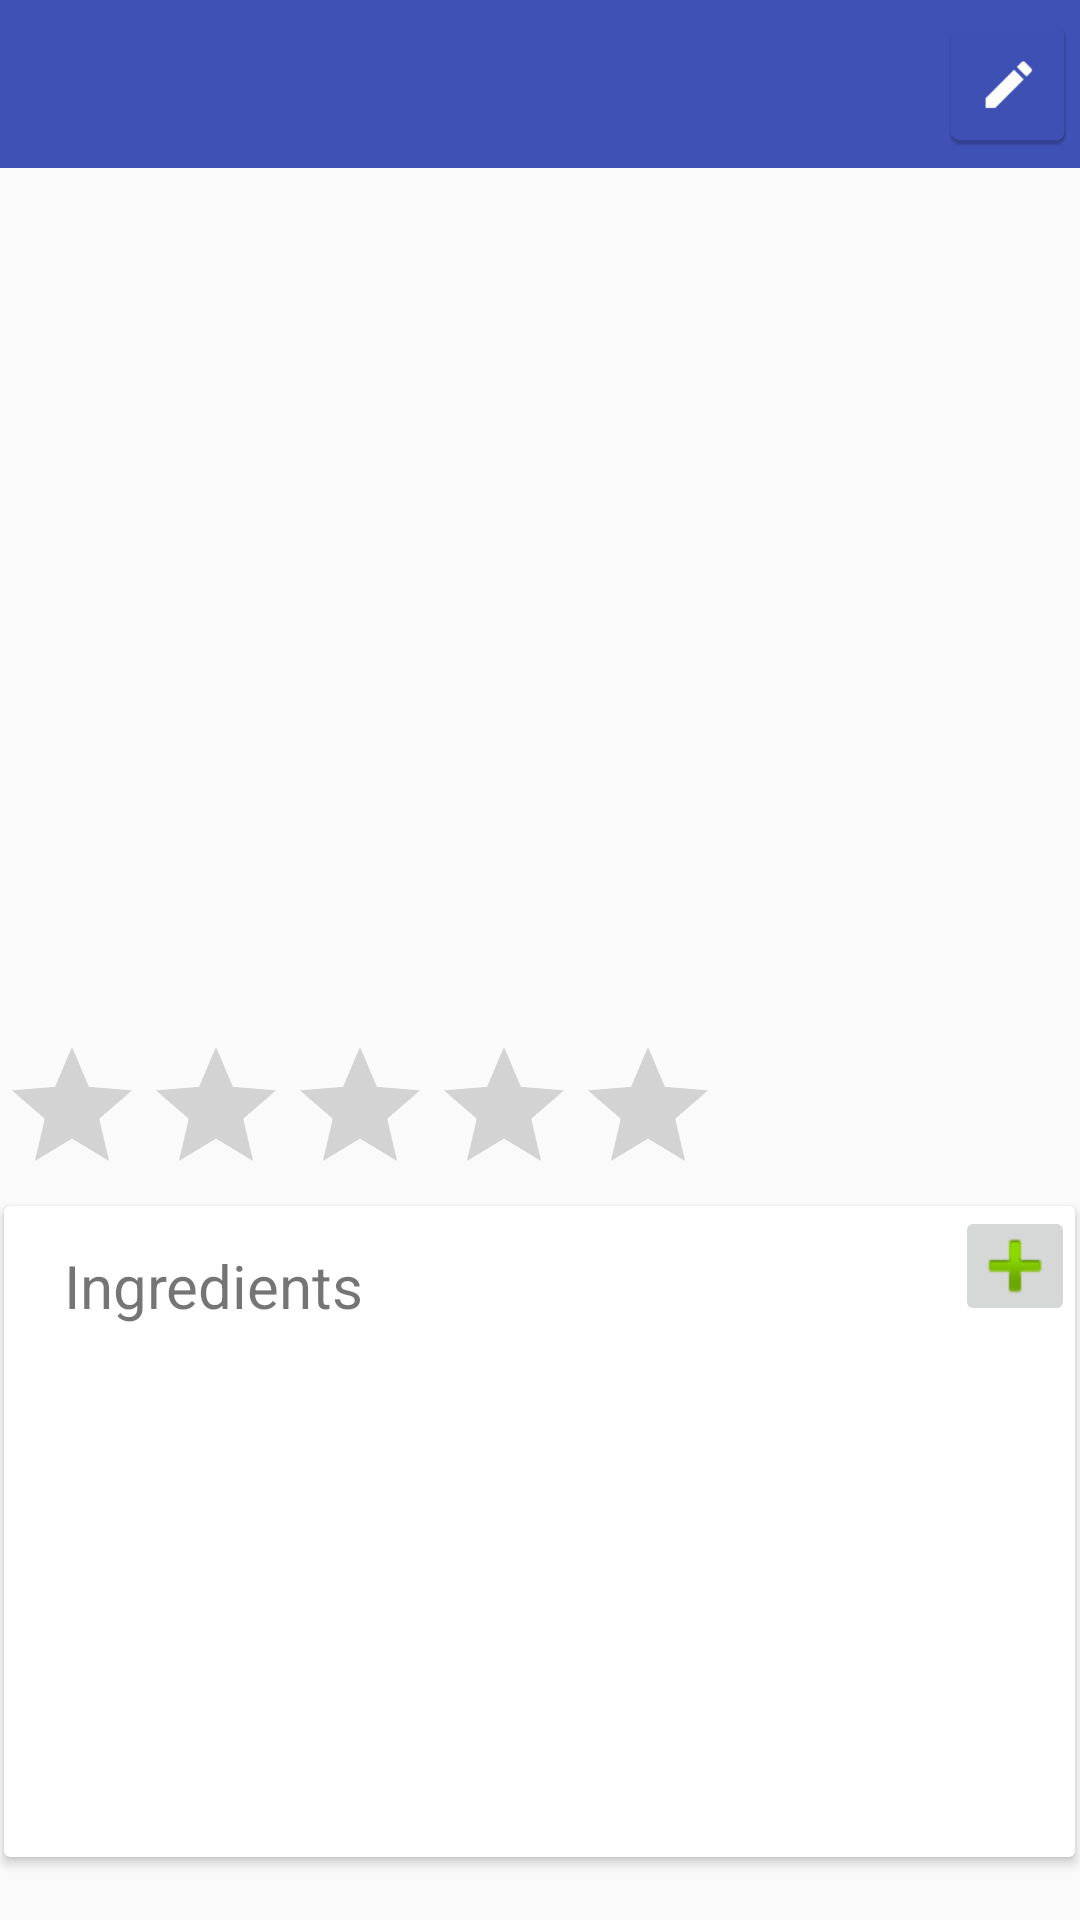

Locate icon controls on the screen. Image size 1080 × 1920, boxes as (x1, y1, x2, y2).
Edit Dish: (952, 61, 1065, 144)
